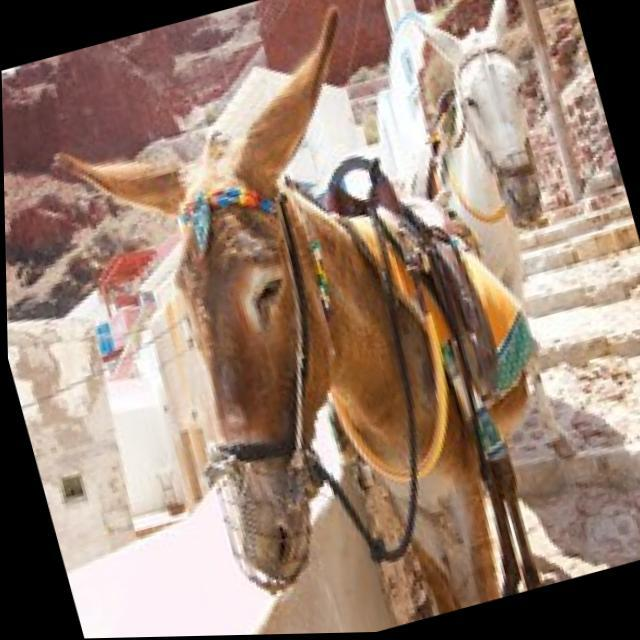Donkey: (26, 0, 560, 640), (233, 0, 640, 629), (344, 0, 630, 488)
